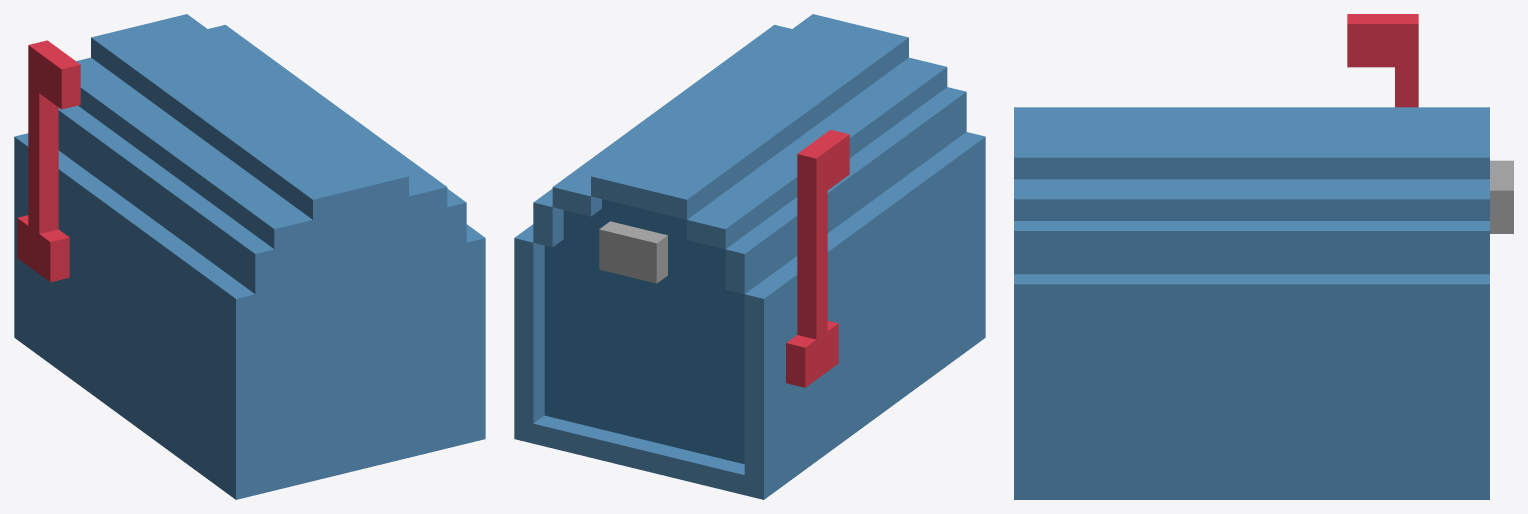
File: mailbox_blender.dae
The picture shows the model from 3 angles, left to right: view 1: azimuth 30°, elevation 25°; view 2: azimuth 150°, elevation 25°; view 3: azimuth 270°, elevation 25°; orthographic projection. The views are drawn at different scales.
Visible parts, largest first — view 1: PlaneCOL; view 2: PlaneCOL; view 3: PlaneCOL.
Part boxes in pixels (box(x1,y1,x2,y2)): PlaneCOL: box(14, 14, 485, 499); PlaneCOL: box(514, 14, 985, 499); PlaneCOL: box(1014, 14, 1513, 499).
Size of the model in its own units: 1.4 by 2.1 by 1.6.
